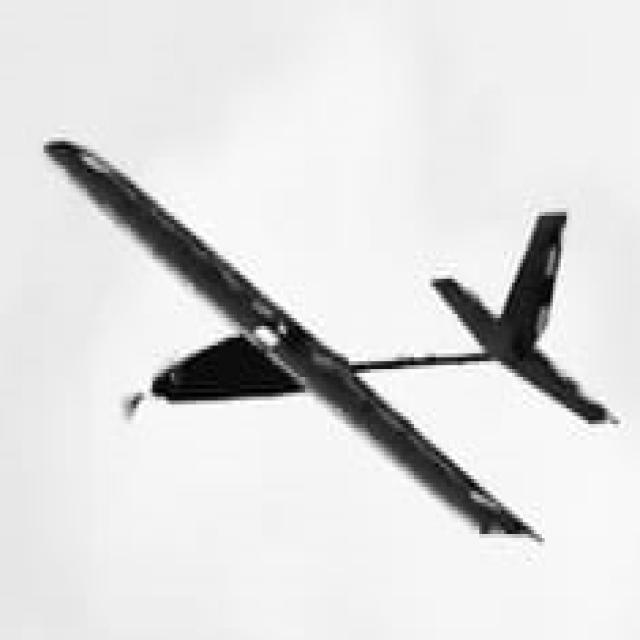iha: (0, 141, 613, 534), (128, 386, 141, 412)
